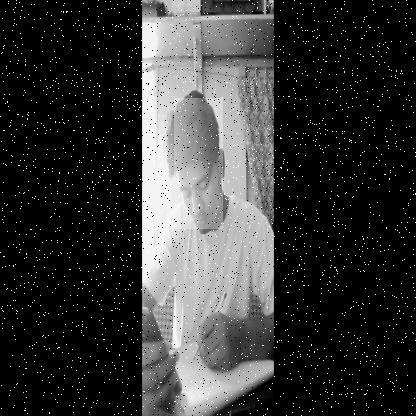Distracted: (174, 98, 223, 229)
